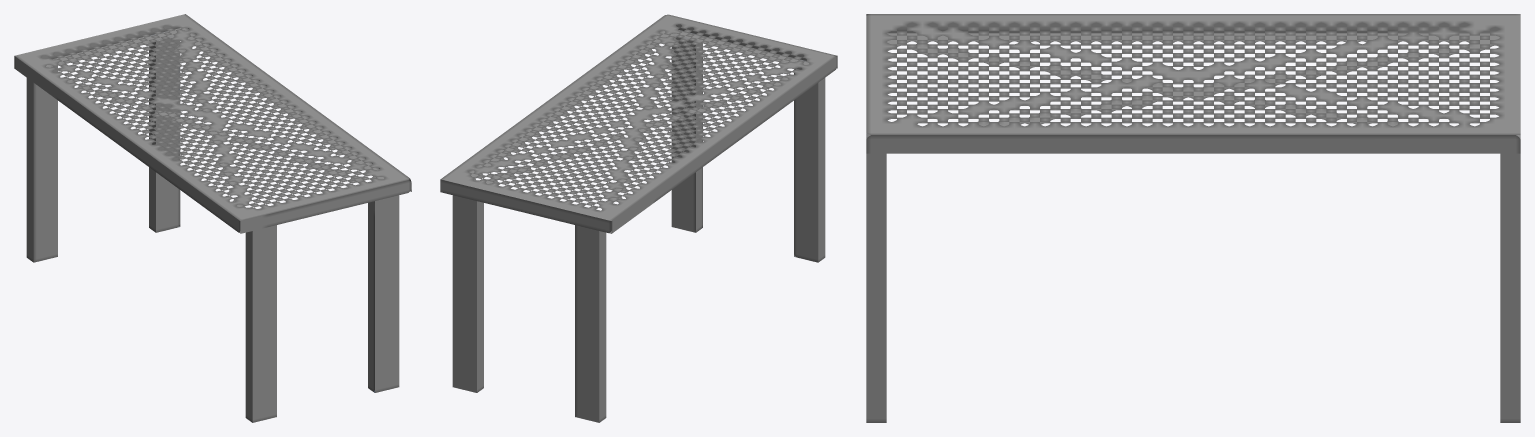
File: maintenance_walkway.obj
3 views of the same model, side by side, from view 1: azimuth 30°, elevation 25°; view 2: azimuth 150°, elevation 25°; view 3: azimuth 270°, elevation 25° (orthographic). The views are drawn at different scales.
Visible parts, largest first — view 1: cube; view 2: cube; view 3: cube.
Boxes of the visible parts, x1,y1,x2,y2 form: cube: [14, 14, 411, 422]; cube: [440, 14, 837, 422]; cube: [866, 14, 1520, 422].
Bounding box in the file's own units: 0.875 × 1 × 2.
1 material, 1 textured.
